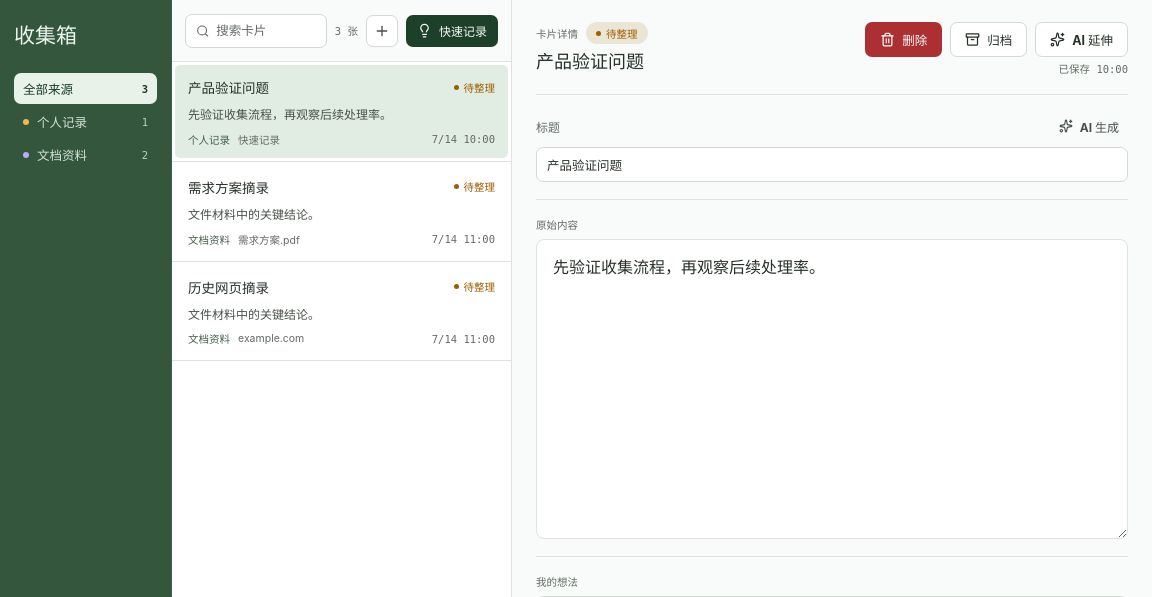
Test: InboxPage › exposes two source types and groups legacy web cards under documents
The width and height of the screenshot is (1152, 597).
Expected: the text "产品验证问题" is shown, [188,80,269,96]
Expected: the text "需求方案摘录" is shown, [188,180,269,196]
Click the button "文档资料 2" at (86, 155), box [14,139,157,170]
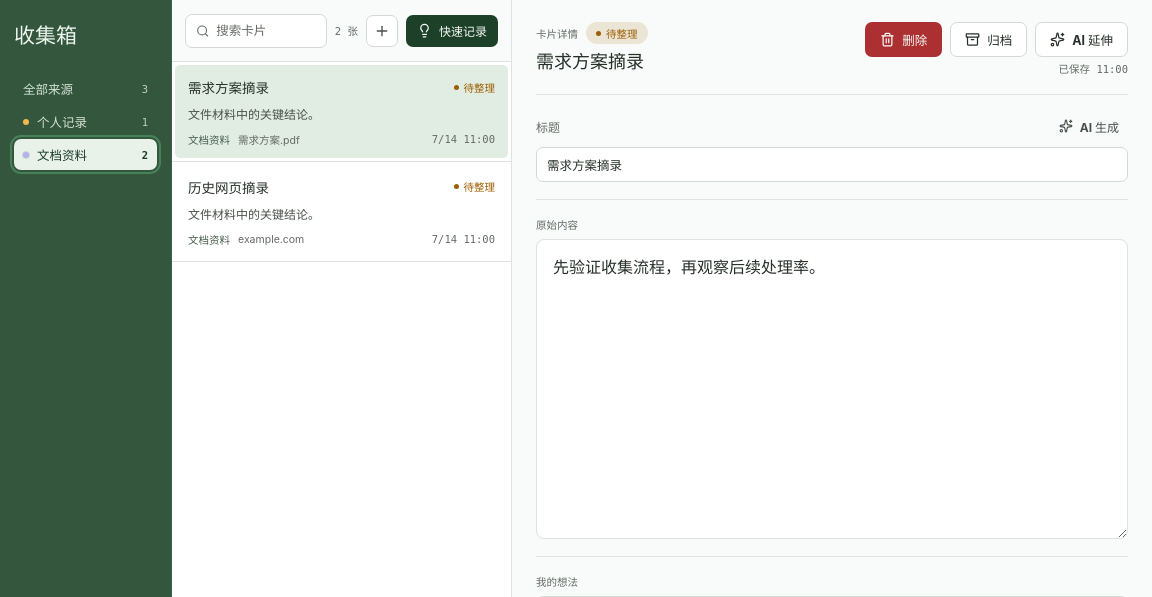
Expected: the text "需求方案摘录" is shown, [188,80,269,96]
Now the button "产品验证问题" is gone
